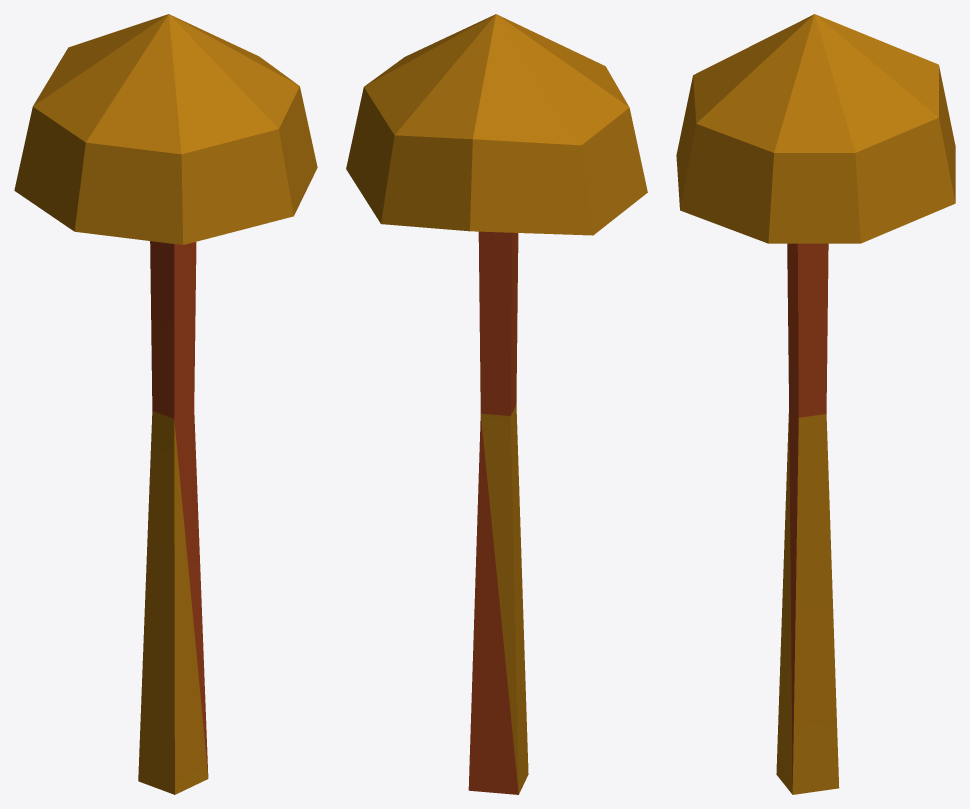
The model's file is Mushroom_Big_5.fbx.
The picture shows the model from 3 angles, left to right: view 1: azimuth 30°, elevation 25°; view 2: azimuth 150°, elevation 25°; view 3: azimuth 270°, elevation 25°; orthographic projection.
Parts seen in each view (by area): view 1: Mushroom_Big_5; view 2: Mushroom_Big_5; view 3: Mushroom_Big_5.
Boxes of the visible parts, x1=… form: Mushroom_Big_5: x1=14, y1=14, x2=317, y2=794; Mushroom_Big_5: x1=346, y1=14, x2=647, y2=794; Mushroom_Big_5: x1=676, y1=14, x2=955, y2=794.
Bounding box in the file's own units: 24.96 × 72.56 × 23.93.
